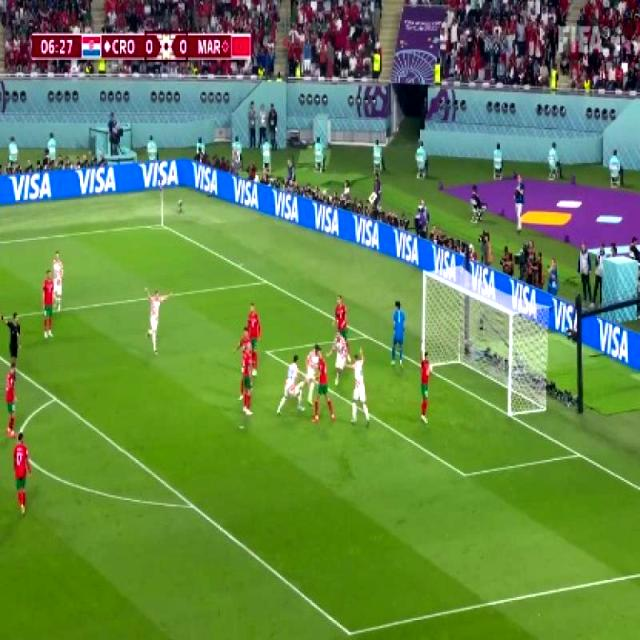bigarea_bottom_inner: (336, 615, 362, 640)
bigarea_top_outter: (256, 269, 274, 291)
bottom_arc_area_intersection: (182, 490, 202, 520)
corner: (151, 215, 169, 232)
smallarea_bottom_inner: (452, 457, 476, 491)
smallarea_bottom_outter: (568, 440, 588, 466)
smallarea_top_inner: (258, 340, 276, 362)
smallarea_top_outter: (356, 324, 374, 346)
top_arc_area_intersection: (45, 386, 63, 409)
